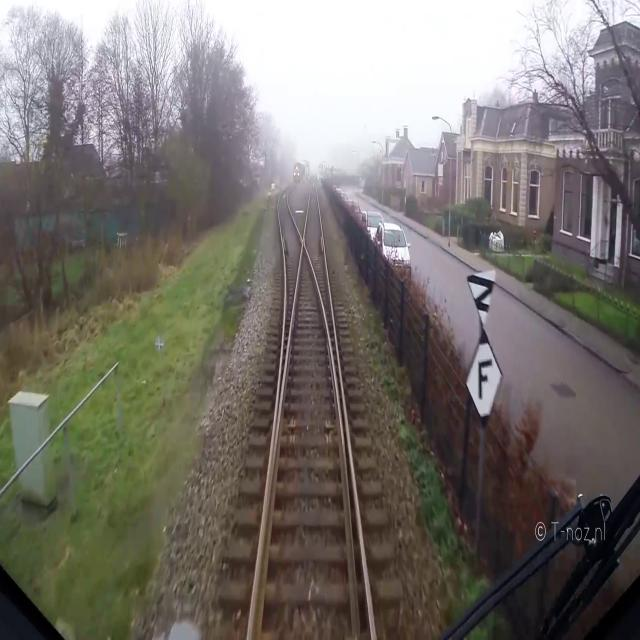rail-track: (250, 244, 358, 639), (304, 180, 372, 639), (278, 183, 302, 394)
